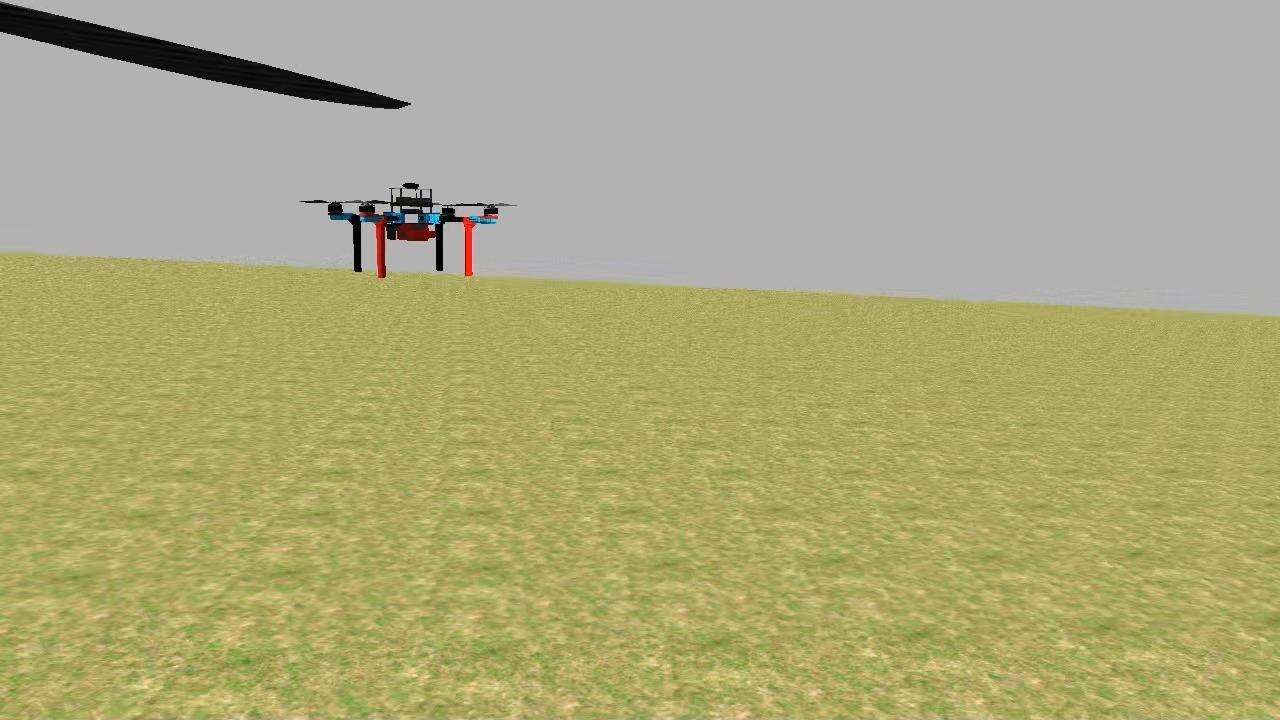UAV: (320, 170, 509, 283)
